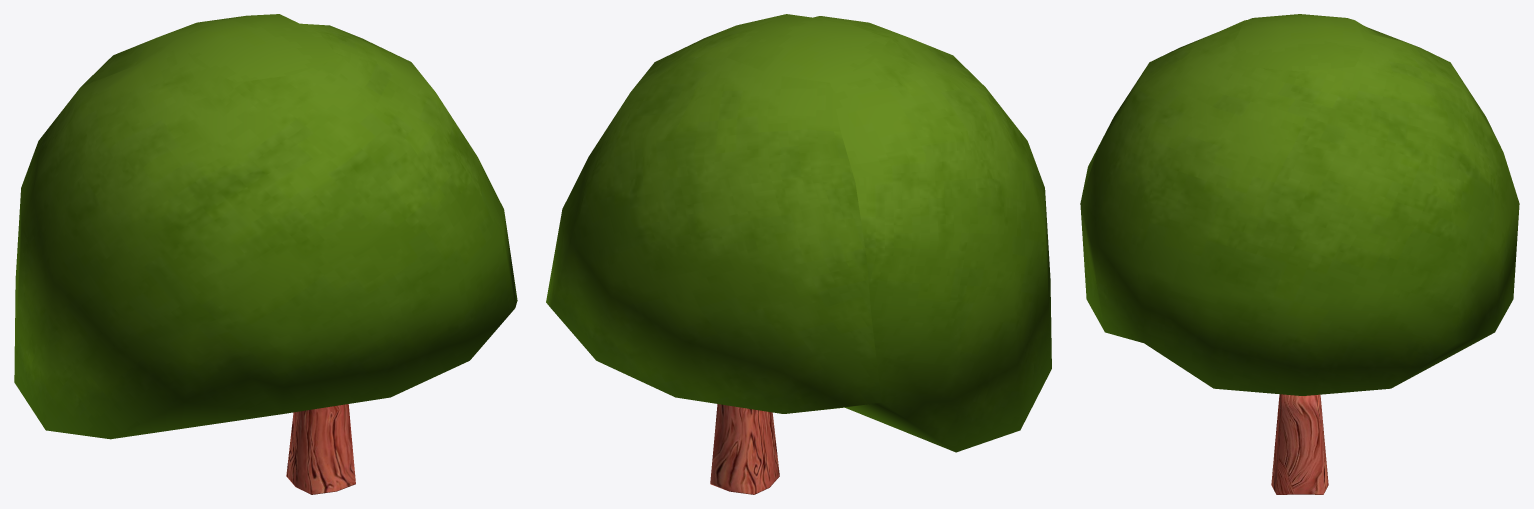
Rendered from tree_003.glb.
3 renders of one model, left to right at view 1: azimuth 30°, elevation 25°; view 2: azimuth 150°, elevation 25°; view 3: azimuth 270°, elevation 25°, orthographic. The views are drawn at different scales.
Visible parts, largest first — view 1: tree003_leaves, tree003_trunk; view 2: tree003_leaves, tree003_trunk; view 3: tree003_leaves, tree003_trunk.
Boxes of the visible parts, x1,y1,x2,y2 form: tree003_leaves: (14,14,517,439); tree003_trunk: (286,404,355,494); tree003_leaves: (546,14,1051,452); tree003_trunk: (710,404,779,494); tree003_leaves: (1080,14,1519,395); tree003_trunk: (1271,394,1328,494).
Size of the model in its own units: 5.25 by 5.18 by 4.89.
Materials: 1 (1 with a texture image).
